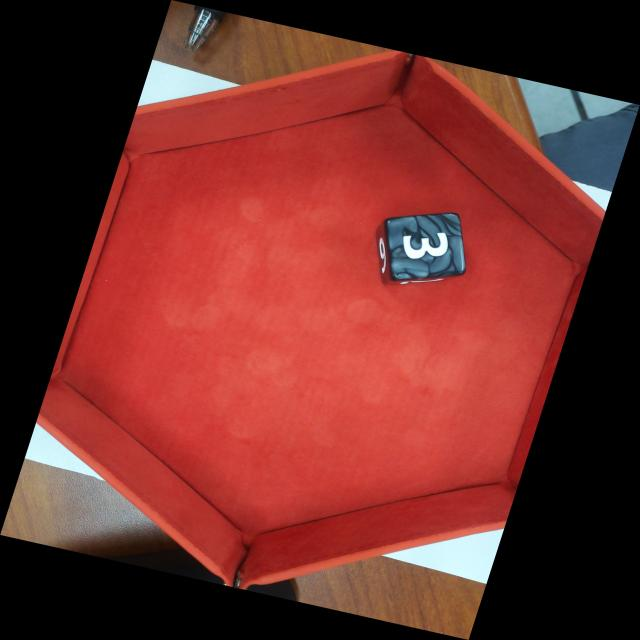dice: (383, 211, 466, 283)
